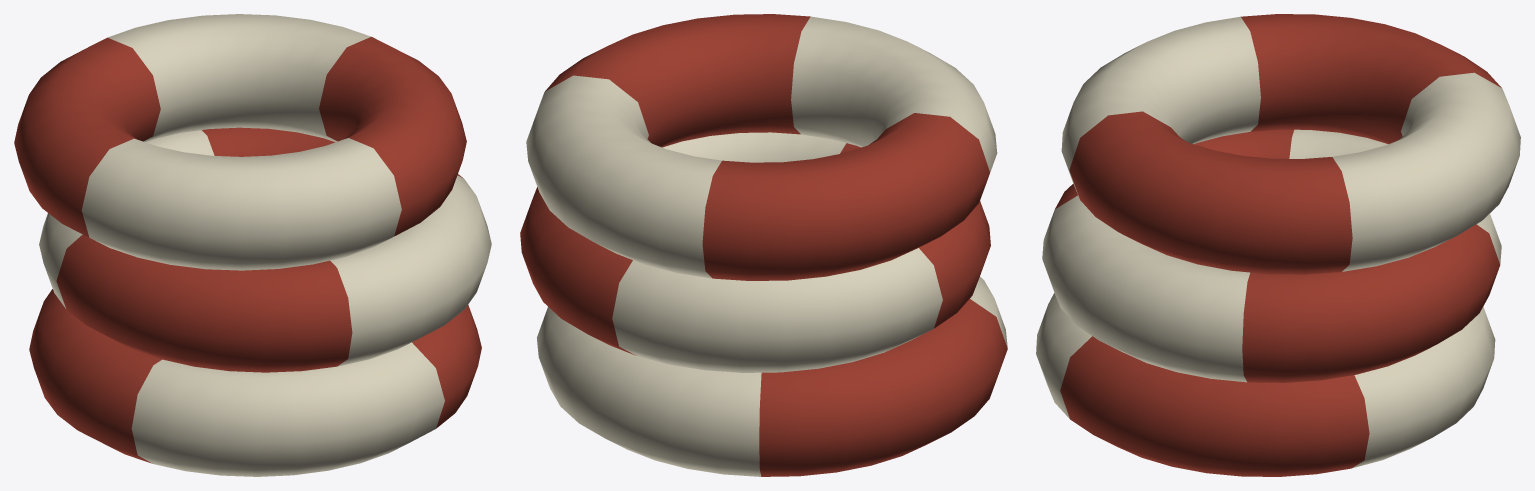
File: swim-rings.glb
The picture shows the model from 3 angles, left to right: view 1: azimuth 30°, elevation 25°; view 2: azimuth 150°, elevation 25°; view 3: azimuth 270°, elevation 25°; orthographic projection. The views are drawn at different scales.
Parts seen in each view (by area): view 1: paint-ivory, paint-red; view 2: paint-ivory, paint-red; view 3: paint-red, paint-ivory.
Part boxes in pixels (box(x1,y1,x2,y2)): paint-ivory: box(39, 14, 491, 476); paint-red: box(14, 36, 481, 463); paint-ivory: box(526, 16, 1007, 476); paint-red: box(520, 14, 1007, 476); paint-red: box(1055, 14, 1501, 476); paint-ivory: box(1036, 16, 1520, 468).
Size of the model in its own units: 1.72 by 1.2 by 1.75.
